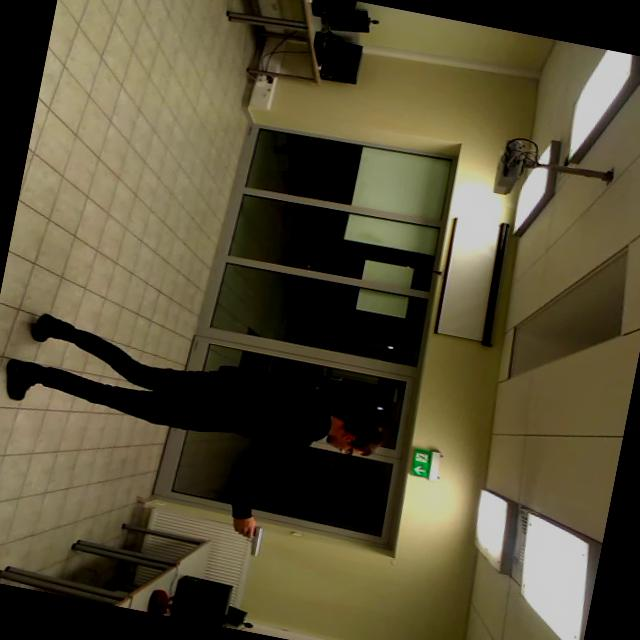handgun: (218, 512, 268, 562)
